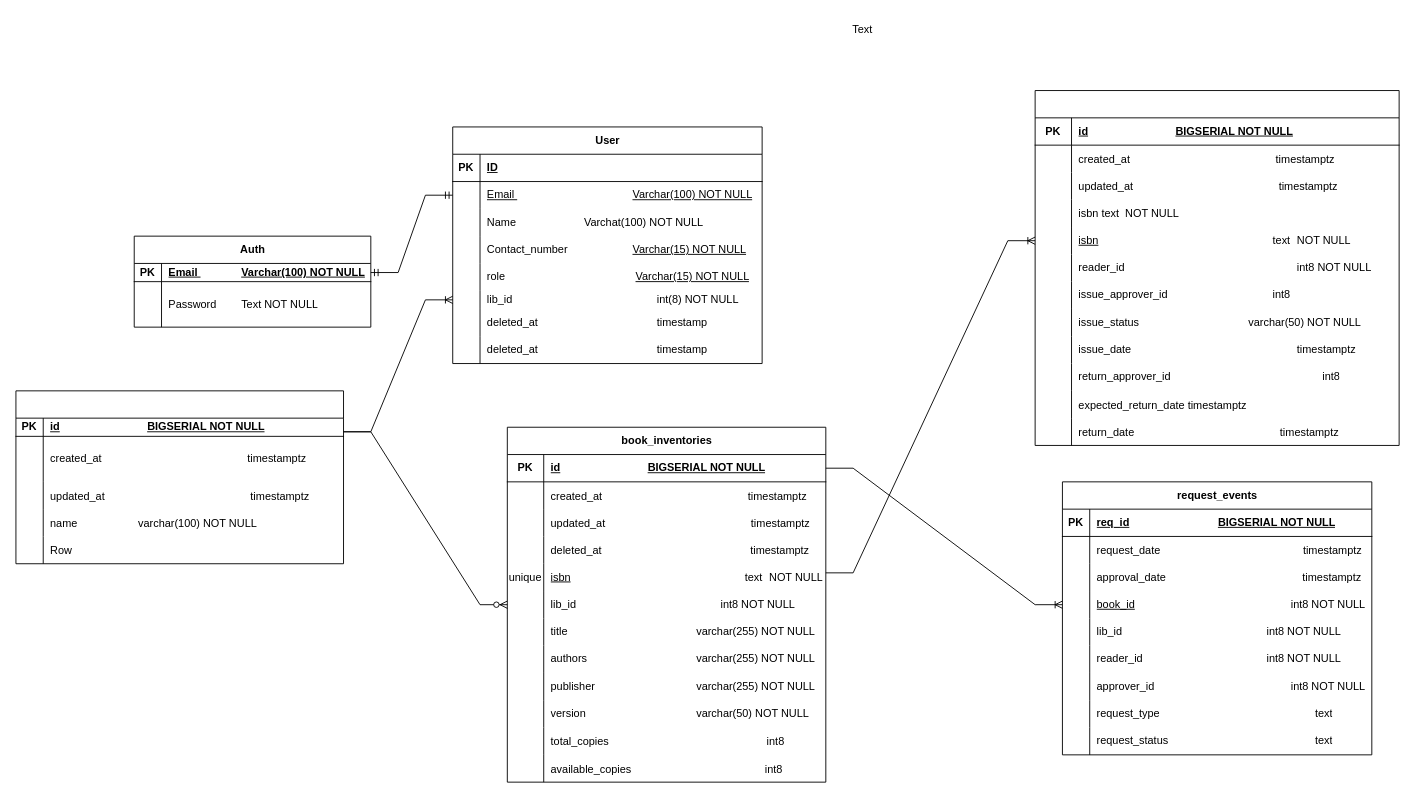
This 1415x798 diagram has some shape labels left out. Each missing label, with the box of its shape:
issue_registries: (1034, 90, 1399, 445)
libraries: (15, 390, 344, 564)
